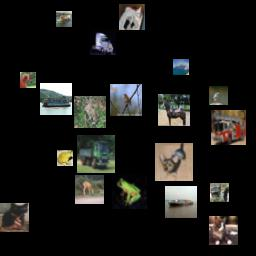bird: (110, 84, 142, 116), (209, 86, 228, 105)
cat: (209, 216, 238, 245), (0, 203, 29, 232), (119, 4, 145, 30)
deer: (75, 175, 104, 204)
dog: (155, 143, 193, 181)
frog: (112, 174, 147, 209), (74, 96, 106, 128), (57, 150, 73, 166)
ship: (165, 186, 197, 218), (40, 83, 72, 115), (173, 59, 189, 75), (56, 11, 72, 27)
truck: (77, 135, 115, 173), (211, 110, 246, 145), (90, 29, 116, 55), (210, 183, 229, 202)
